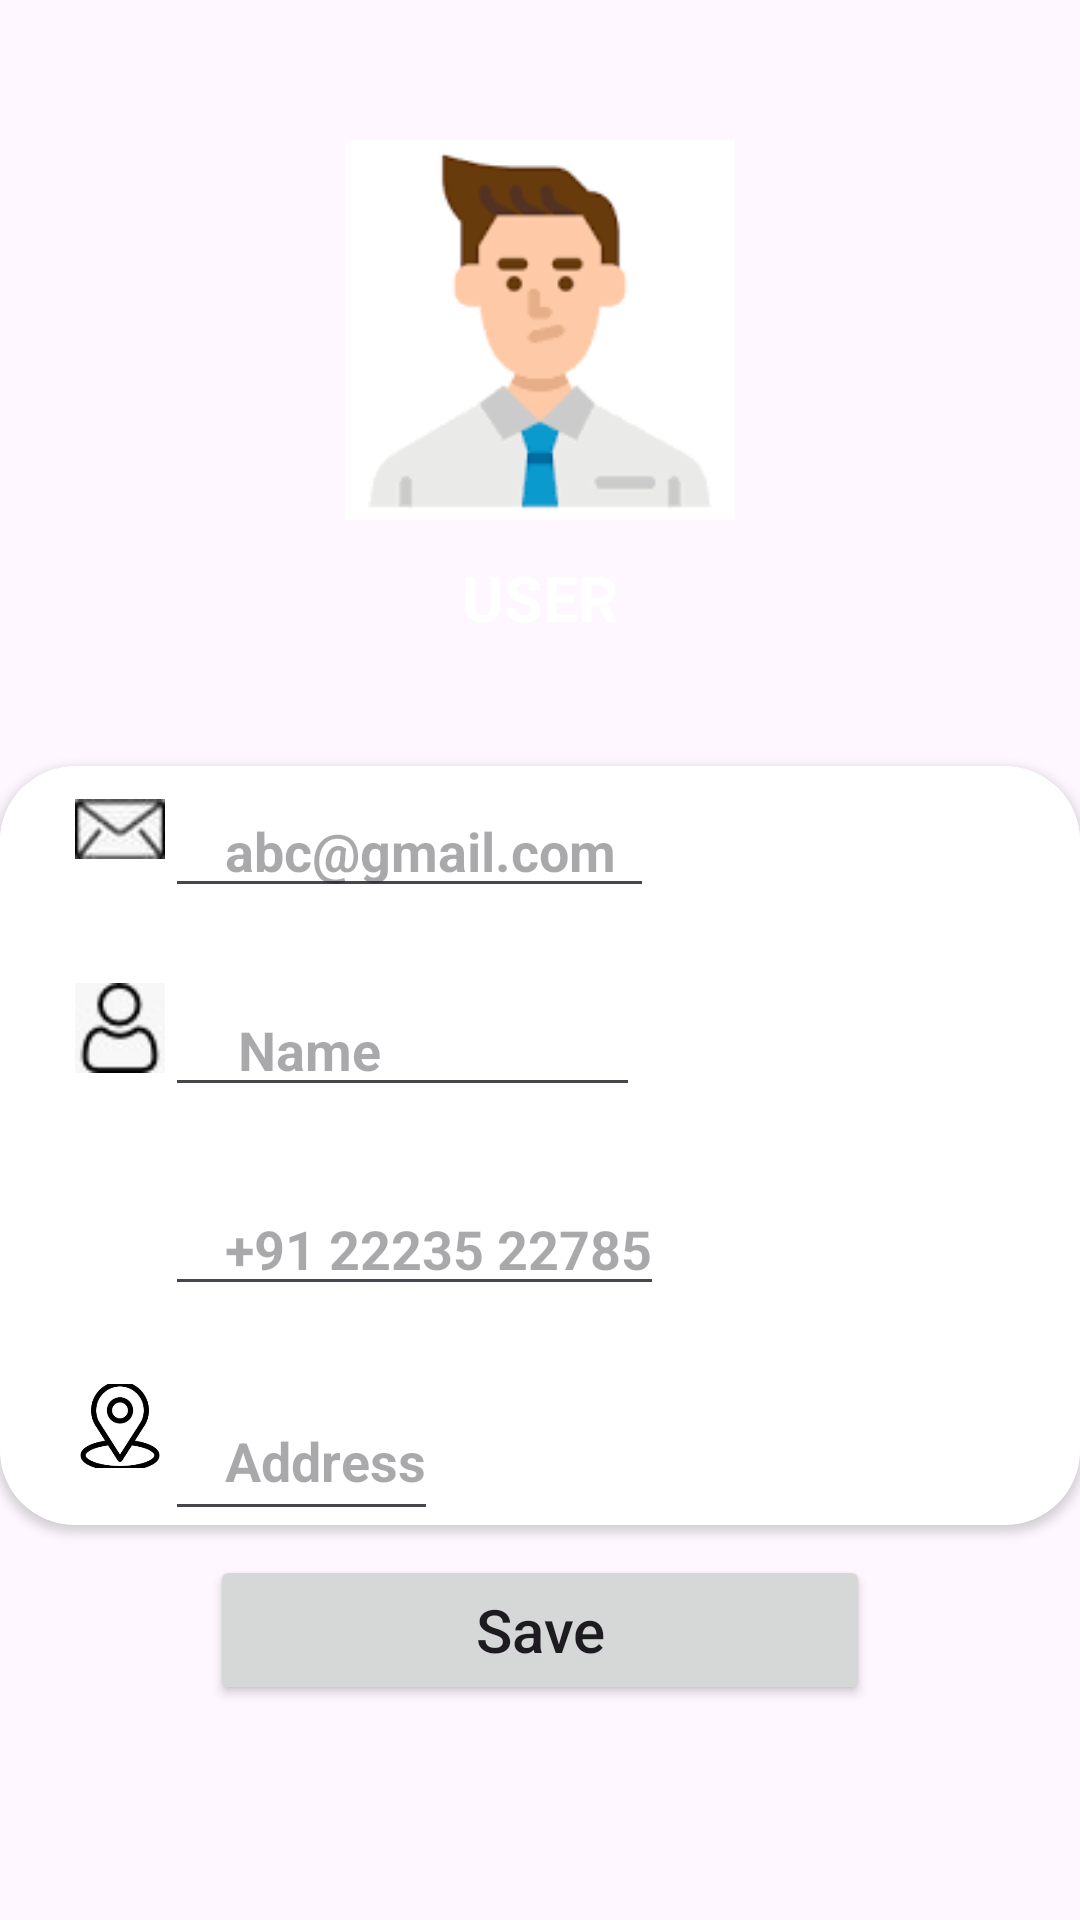

Icon click points for this 1080w x 1920h phone screenshot, format (x,y):
location: (120,1426)
photo: (540,331)
user: (120,1028)
